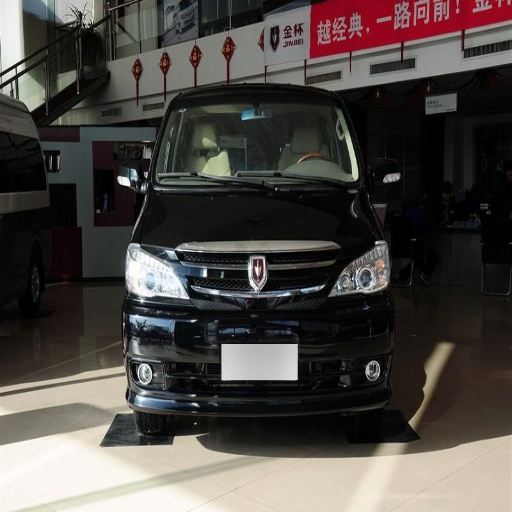front_bumper: (124, 253, 409, 409)
front_right_light: (126, 241, 185, 300)
